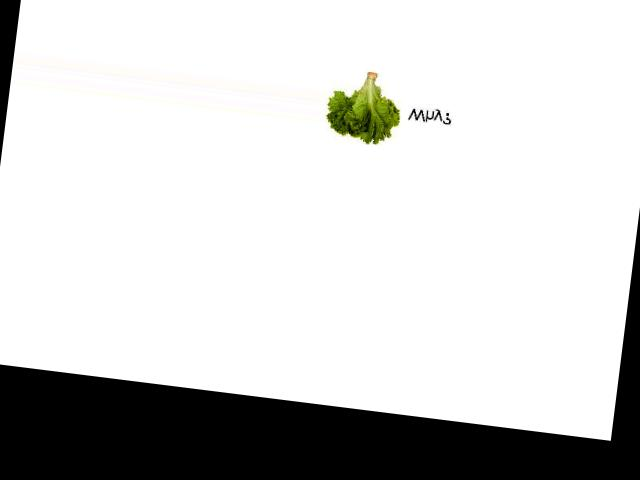lettuce: (321, 66, 412, 148)
